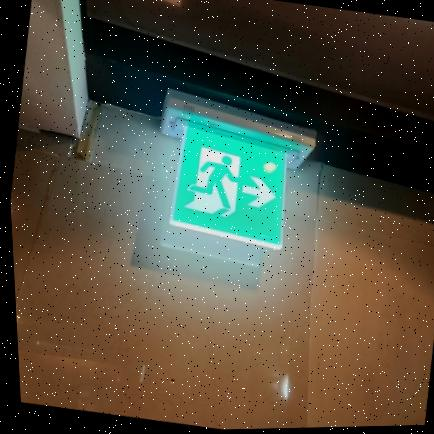emergency_exit: (169, 116, 288, 250)
